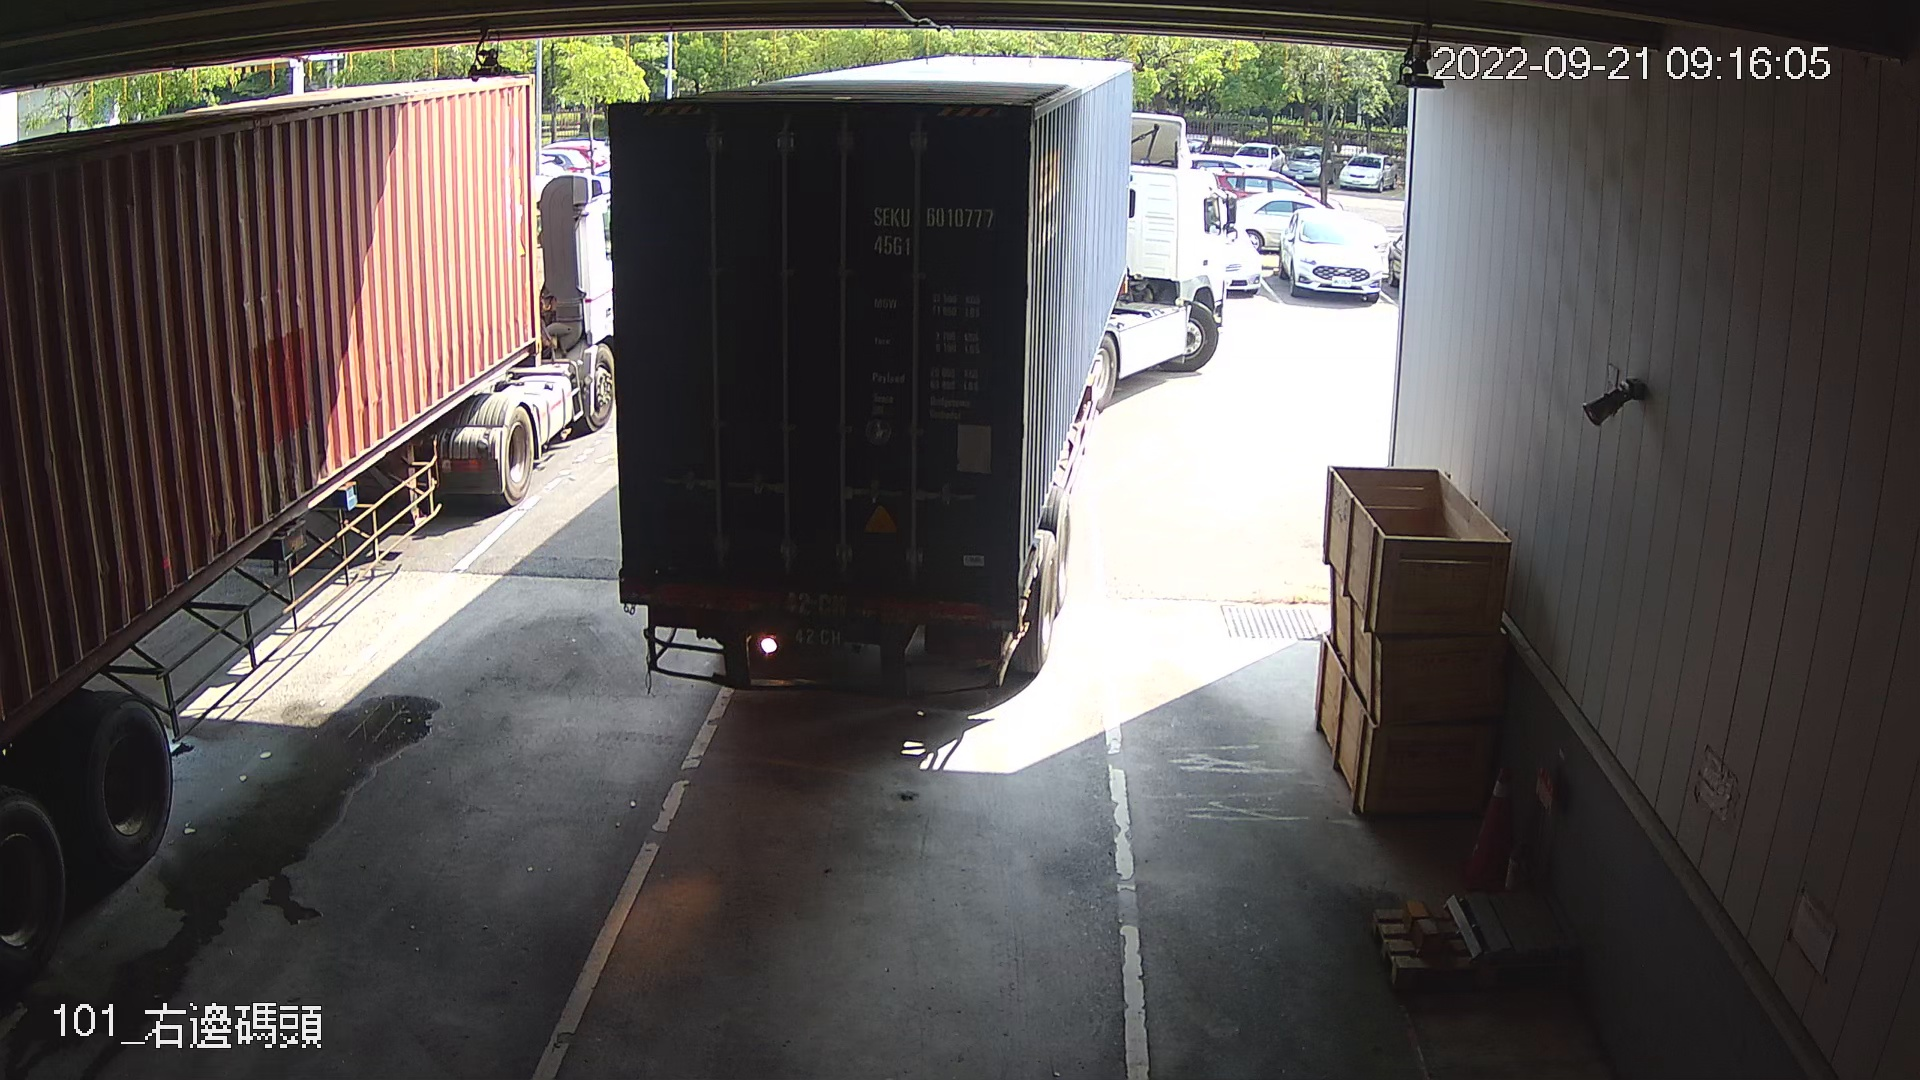container: (862, 195, 1004, 266)
